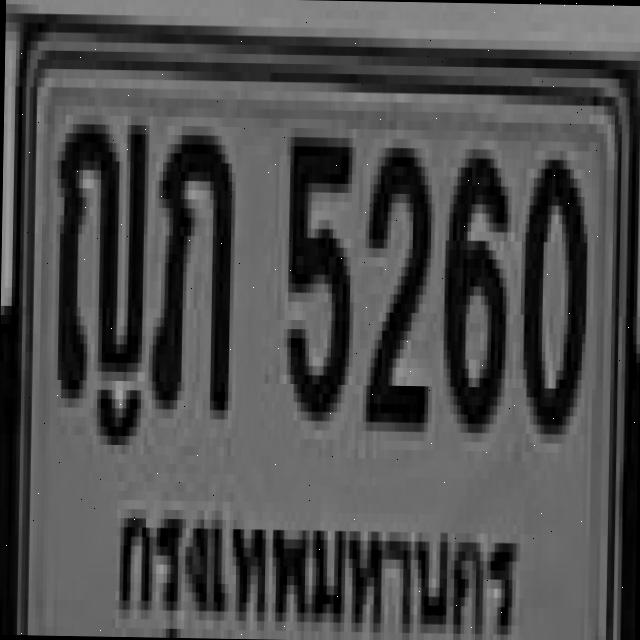0: (518, 150, 585, 426)
2: (362, 138, 428, 423)
22YorYing: (53, 110, 145, 394)
41PhorSamPhao: (148, 120, 232, 405)
5: (282, 127, 349, 412)
6: (438, 139, 505, 424)
Bangkok: (106, 477, 533, 640)
